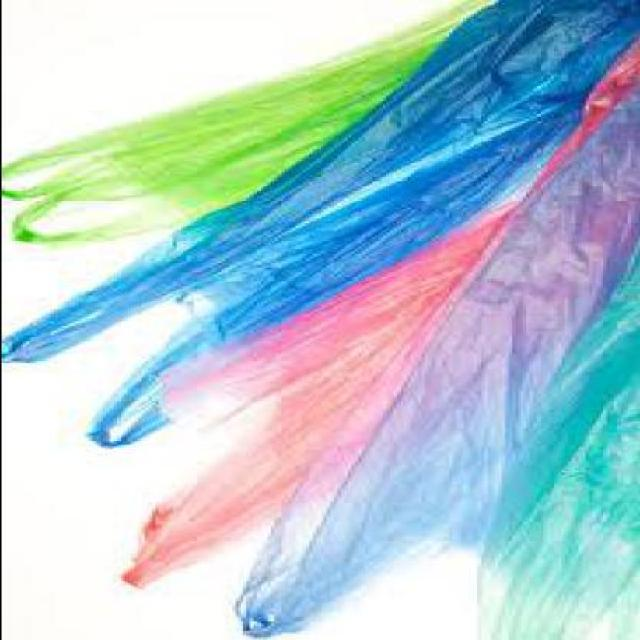PLASTIC: (1, 0, 637, 449), (116, 37, 636, 586), (231, 41, 637, 638), (1, 0, 521, 240)
